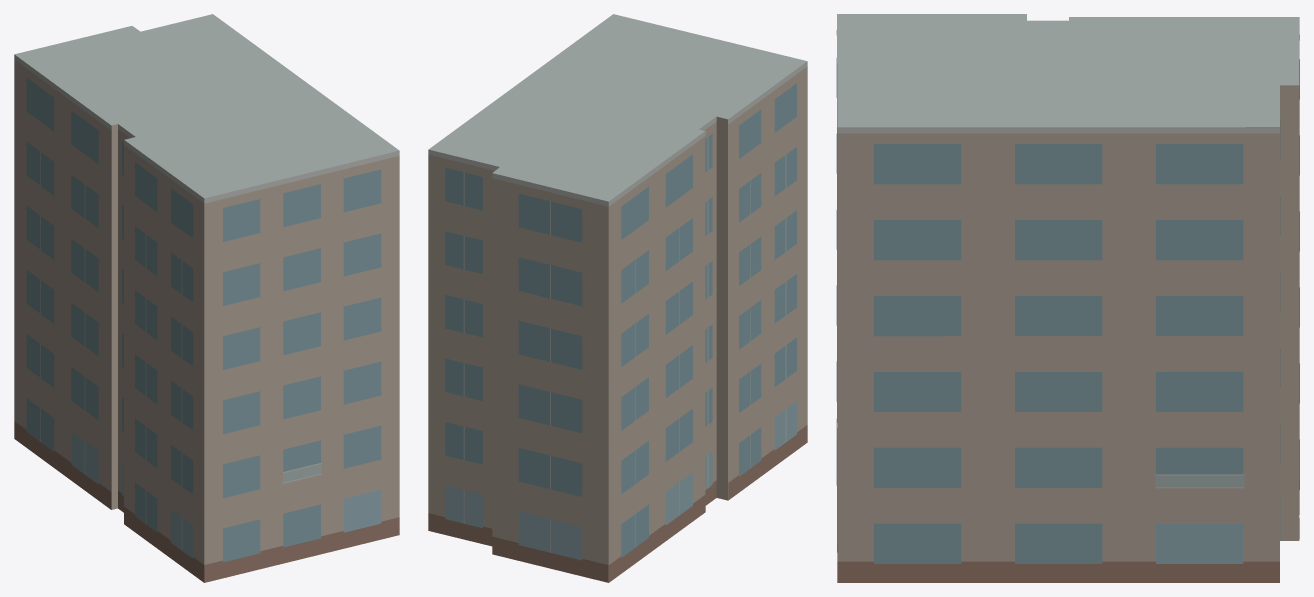
The model's file is survey-upis-32726683.glb.
3 renders of one model, left to right at view 1: azimuth 30°, elevation 25°; view 2: azimuth 150°, elevation 25°; view 3: azimuth 270°, elevation 25°, orthographic. The views are drawn at different scales.
Visible parts, largest first — view 1: survey-upis-32726683.tmp; view 2: survey-upis-32726683.tmp; view 3: survey-upis-32726683.tmp.
Part boxes in pixels (x1,y1,x2,y2): survey-upis-32726683.tmp: [14, 14, 399, 582]; survey-upis-32726683.tmp: [428, 14, 807, 582]; survey-upis-32726683.tmp: [836, 14, 1299, 582].
Size of the model in its own units: 9.79 by 18.3 by 16.88.
